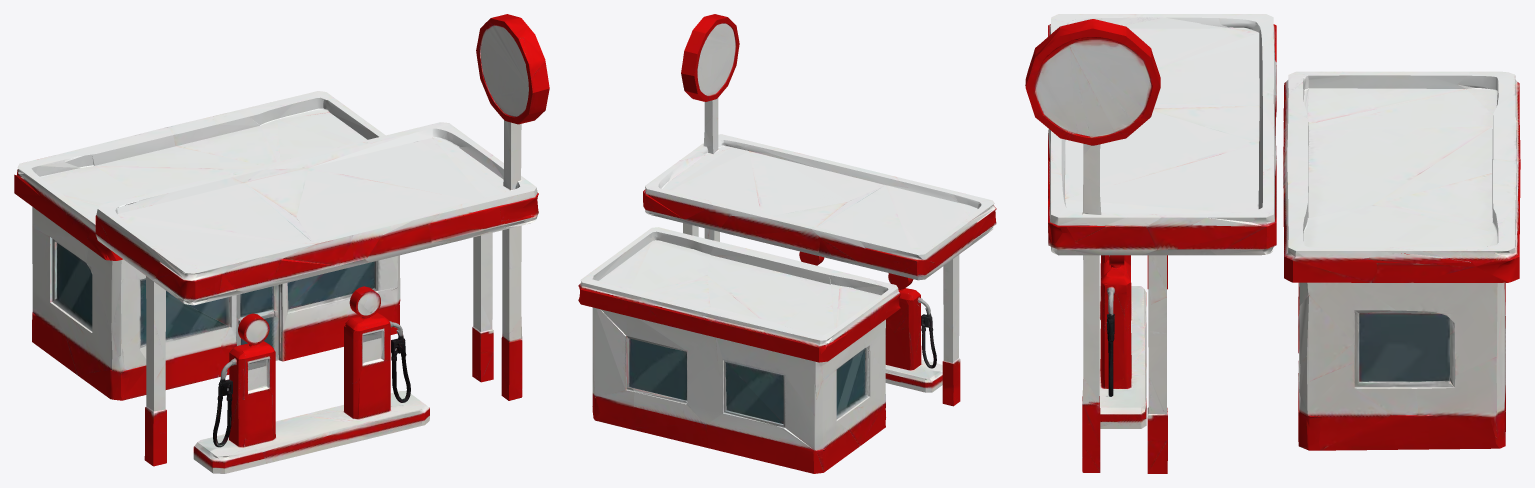
File: gas-station.glb
3 views of the same model, side by side, from view 1: azimuth 30°, elevation 25°; view 2: azimuth 150°, elevation 25°; view 3: azimuth 270°, elevation 25° (orthographic). The views are drawn at different scales.
Size of the model in its own units: 1.85 by 1.9 by 1.88.
1 material, 1 textured.
